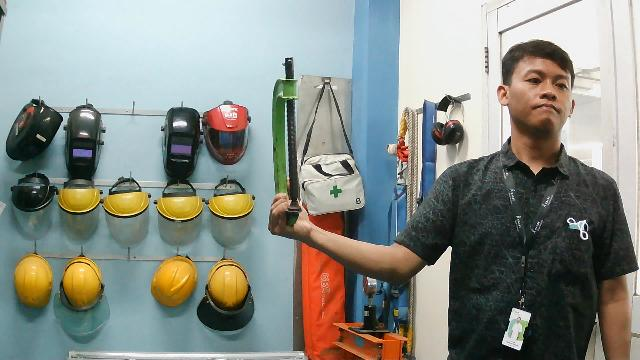tekiro_c_clamp: (251, 51, 316, 229)
